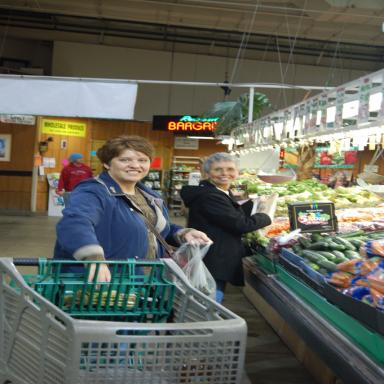plasticbag: (173, 236, 217, 302)
